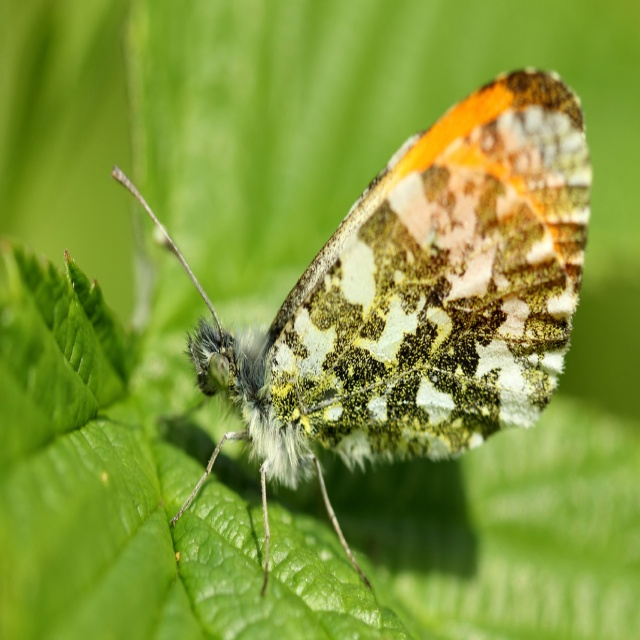Butterfly: (97, 57, 596, 610)
